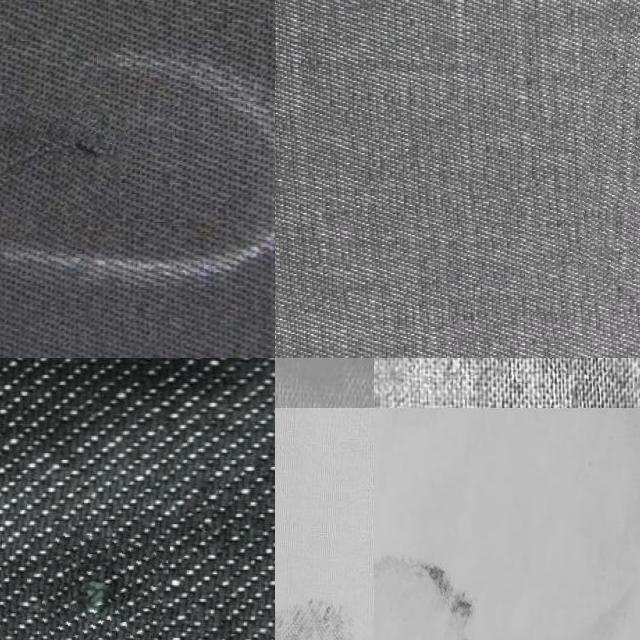Thread_other: (368, 534, 499, 640)
stains: (0, 92, 123, 246), (582, 0, 640, 281), (38, 535, 165, 640)
